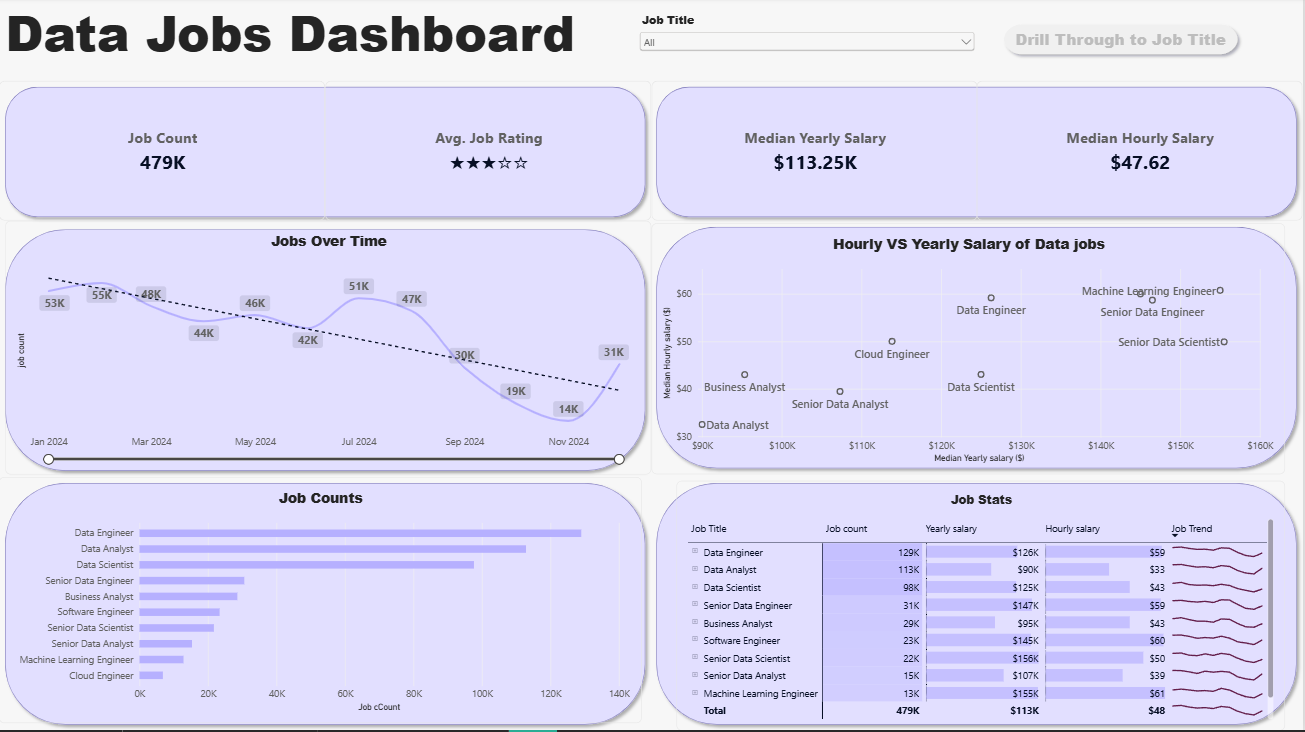

The page's visual inventory and layout, read from the dashboard file:
{"tool":"powerbi","page":{"name":"Data Jobs Dashboard","canvas":[1920,1080],"ordinal":0},"visuals":[{"type":"group","id":"g1","title":"Background","box":[0,123.3,1919.6,957.1],"z":0},{"type":"shape","box":[0,123.3,960.7,209.8],"z":0,"group":"g1"},{"type":"textbox","box":[9.2,0,863.2,123.3],"z":1000},{"type":"shape","box":[958.9,123.3,960.7,209.8],"z":1000,"group":"g1"},{"type":"slicer","fields":{"Values":["job_postings_flat.job_title_short"]},"box":[938.7,22.1,503,80.7],"z":2000},{"type":"shape","box":[0,333.1,960.7,373.6],"z":2000,"group":"g1"},{"type":"cardVisual","fields":{"Data":["Median(job_postings_flat.salary_year_avg)"]},"box":[960.7,123.3,480.4,206.1],"z":3000},{"type":"shape","box":[958.9,329.4,960.7,373.6],"z":3000,"group":"g1"},{"type":"cardVisual","fields":{"Data":["Median(job_postings_flat.salary_hour_avg)"]},"box":[1439.3,123.3,480.4,206.1],"z":4000},{"type":"shape","box":[0,706.7,960.7,373.6],"z":4000,"group":"g1"},{"type":"cardVisual","fields":{"Data":["job_postings_flat.Salary star rating"]},"box":[480.4,123.3,480.4,206.1],"z":5000},{"type":"shape","box":[958.9,706.7,960.7,373.6],"z":5000,"group":"g1"},{"type":"cardVisual","fields":{"Data":["CountNonNull(job_postings_flat.job_title_short)"]},"box":[0,123.3,480.4,206.1],"z":6000},{"type":"lineChart","title":"Jobs Over Time","fields":{"Y":["CountNonNull(job_postings_flat.job_title_short)"],"Category":["job_postings_flat.job_posted_date.Variation.Date Hierarchy.Year","job_postings_flat.job_posted_date.Variation.Date Hierarchy.Quarter","job_postings_flat.job_posted_date.Variation.Date Hierarchy.Month","job_postings_flat.job_posted_date.Variation.Date Hierarchy.Day"]},"box":[9.2,329.4,951.5,373.6],"z":7000},{"type":"barChart","title":"Job Counts","fields":{"Category":["job_postings_flat.job_title_short"],"Y":["CountNonNull(job_postings_flat.job_title_short)"]},"box":[0,706.8,946,362.6],"z":8000},{"type":"scatterChart","title":"Hourly VS Yearly Salary of Data jobs","fields":{"X":["Median(job_postings_flat.salary_year_avg)"],"Y":["Median(job_postings_flat.salary_hour_avg)"],"Series":["job_postings_flat.job_title_short"]},"box":[960.7,333.1,933.1,369.9],"z":9000},{"type":"pivotTable","title":"Job Stats","fields":{"Rows":["job_postings_flat.job_title_short","job_postings_flat.job_posted_date.Variation.Date Hierarchy.Quarter"],"Values":["CountNonNull(job_postings_flat.job_title_short)","Median(job_postings_flat.salary_year_avg)","Median(job_postings_flat.salary_hour_avg)","SparklineData(CountNonNull(job_postings_flat.job_title_short)_[job_postings_flat.job_posted_date.Variation.Date Hierarch"]},"box":[997.6,712.3,896.3,368.1],"z":10000},{"type":"actionButton","box":[1470.6,31.3,362.2,61.9],"z":11000}]}

Visuals, with their boxes in screenshot pixels (x1, y1, x2, y2), scaled from the page's 1920x1080 canvas onto the 1305x732 screenshot:
"Background" group: 0:84:1304:731
shape: 0:84:653:226
textbox: 6:0:593:84
shape: 652:84:1304:226
slicer - job_postings_flat.job_title_short: 638:15:980:70
shape: 0:226:653:479
cardVisual - Median(job_postings_flat.salary_year_avg): 653:84:979:223
shape: 652:223:1304:476
cardVisual - Median(job_postings_flat.salary_hour_avg): 978:84:1304:223
shape: 0:479:653:731
cardVisual - job_postings_flat.Salary star rating: 327:84:653:223
shape: 652:479:1304:731
cardVisual - CountNonNull(job_postings_flat.job_title_short): 0:84:327:223
"Jobs Over Time" lineChart: 6:223:653:476
"Job Counts" barChart: 0:479:643:725
"Hourly VS Yearly Salary of Data jobs" scatterChart: 653:226:1287:476
"Job Stats" pivotTable: 678:483:1287:731
actionButton: 1000:21:1246:63
